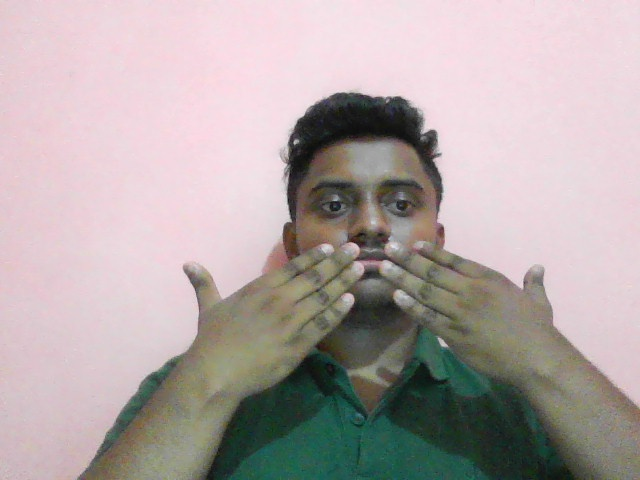Thank You: (159, 238, 620, 418)
